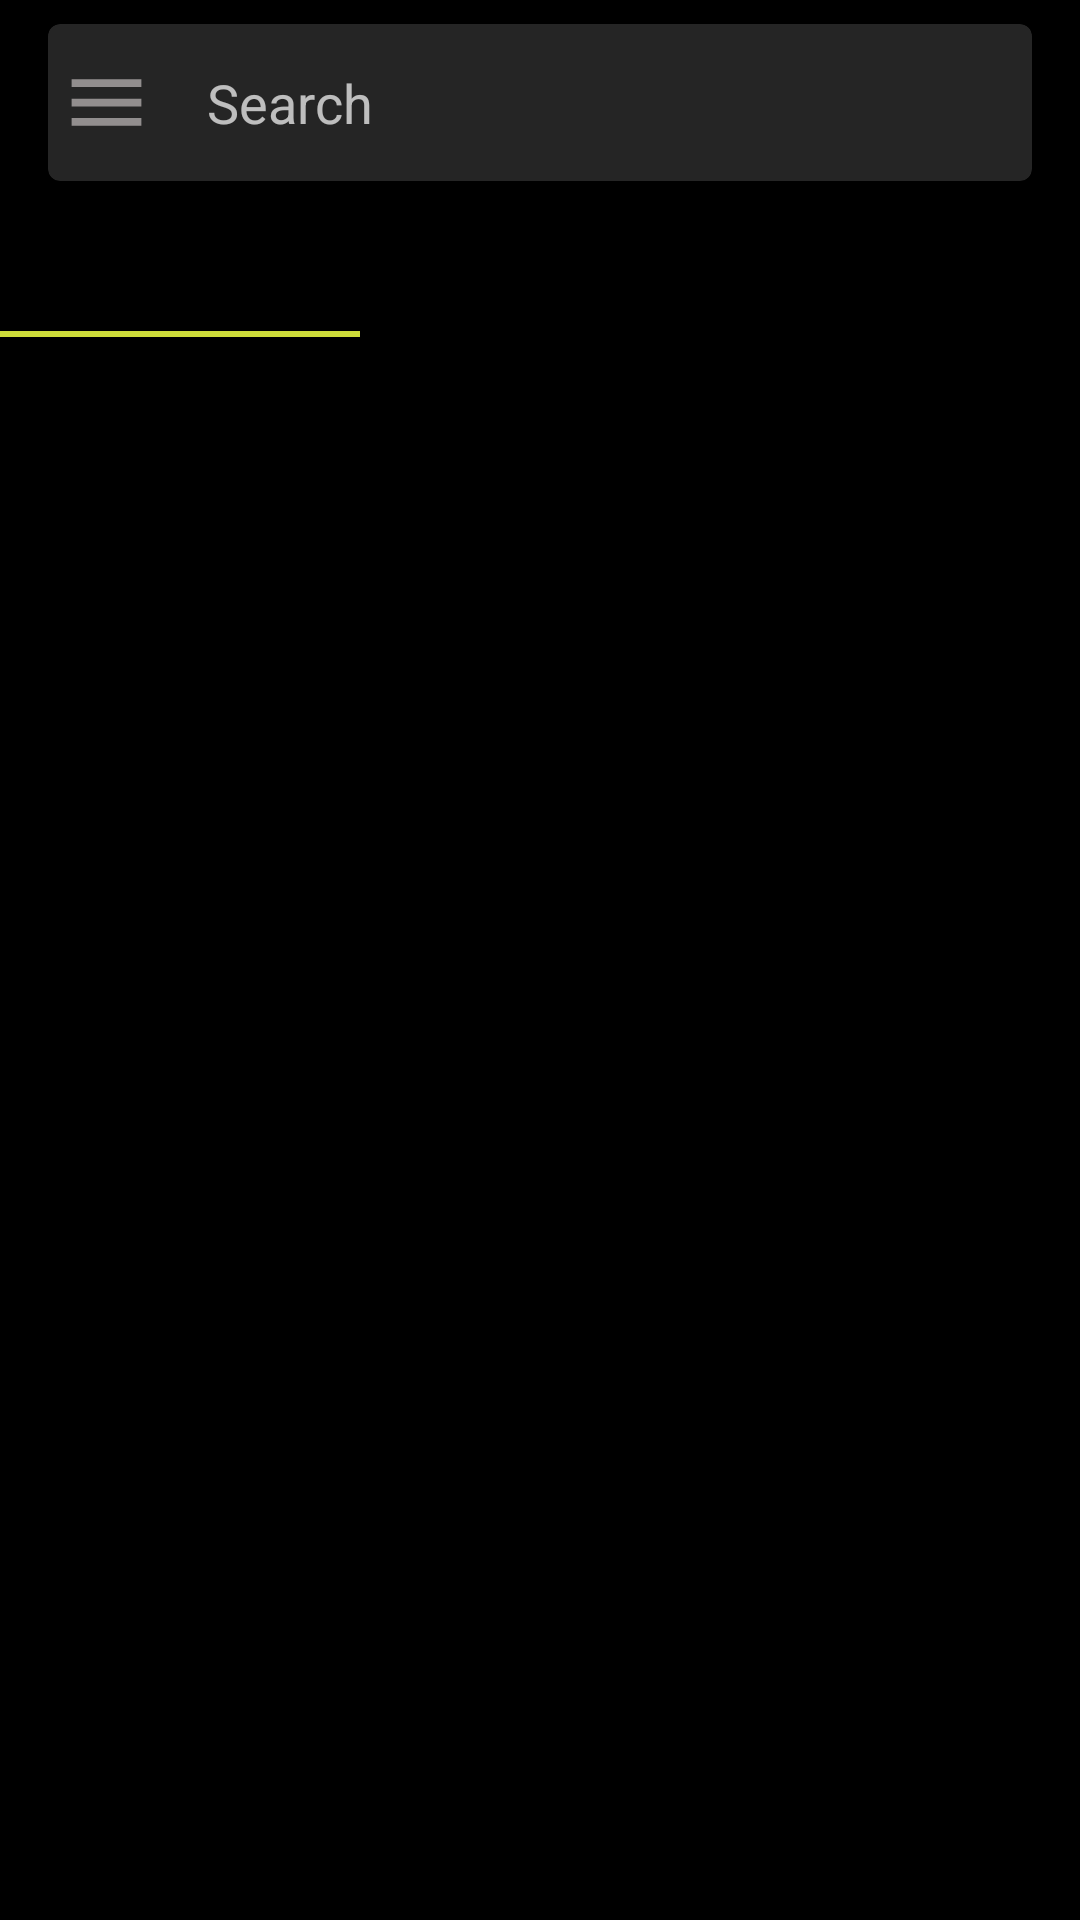

Icons on this 1080x1920 Android screen, each with the point to tap as (x,y):
menu: (106,102)
